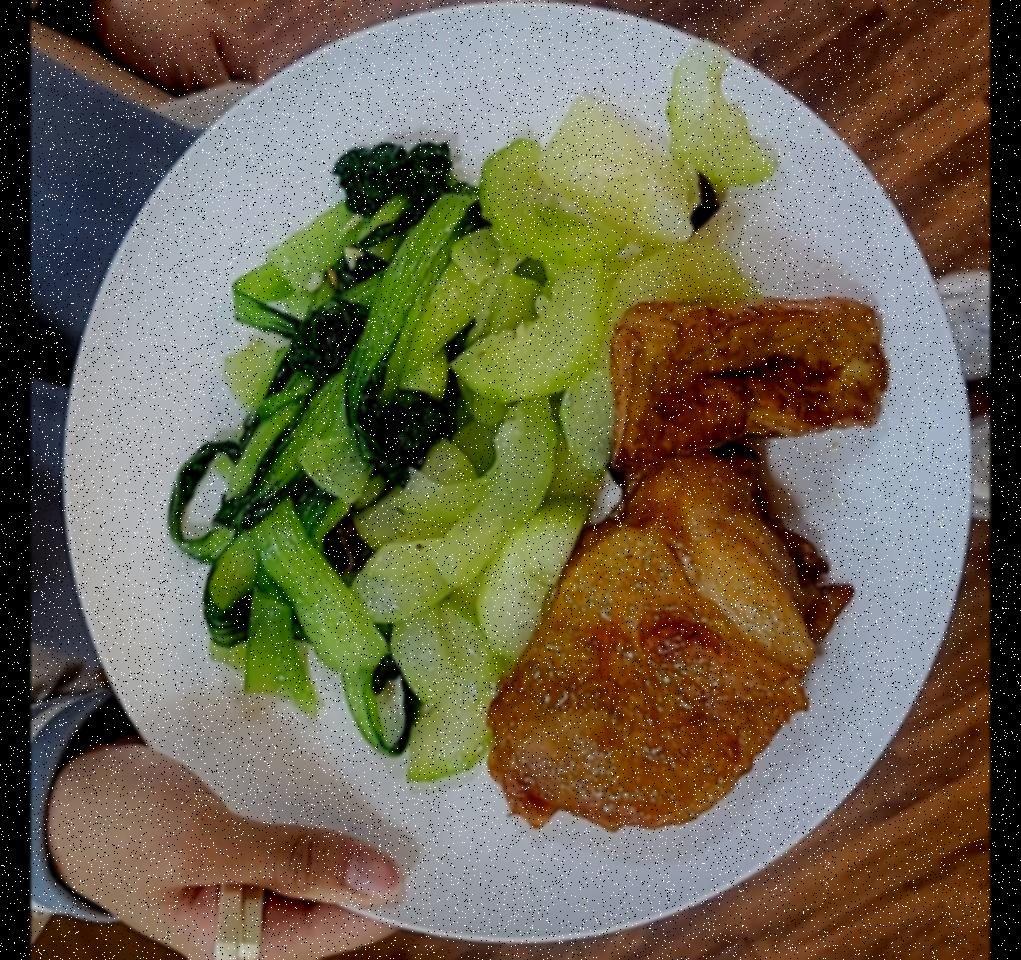grilled chicken leg steak: (489, 466, 848, 843)
plate: (69, 0, 974, 959)
side dish: (385, 70, 750, 783), (187, 134, 472, 721), (608, 284, 902, 468)
